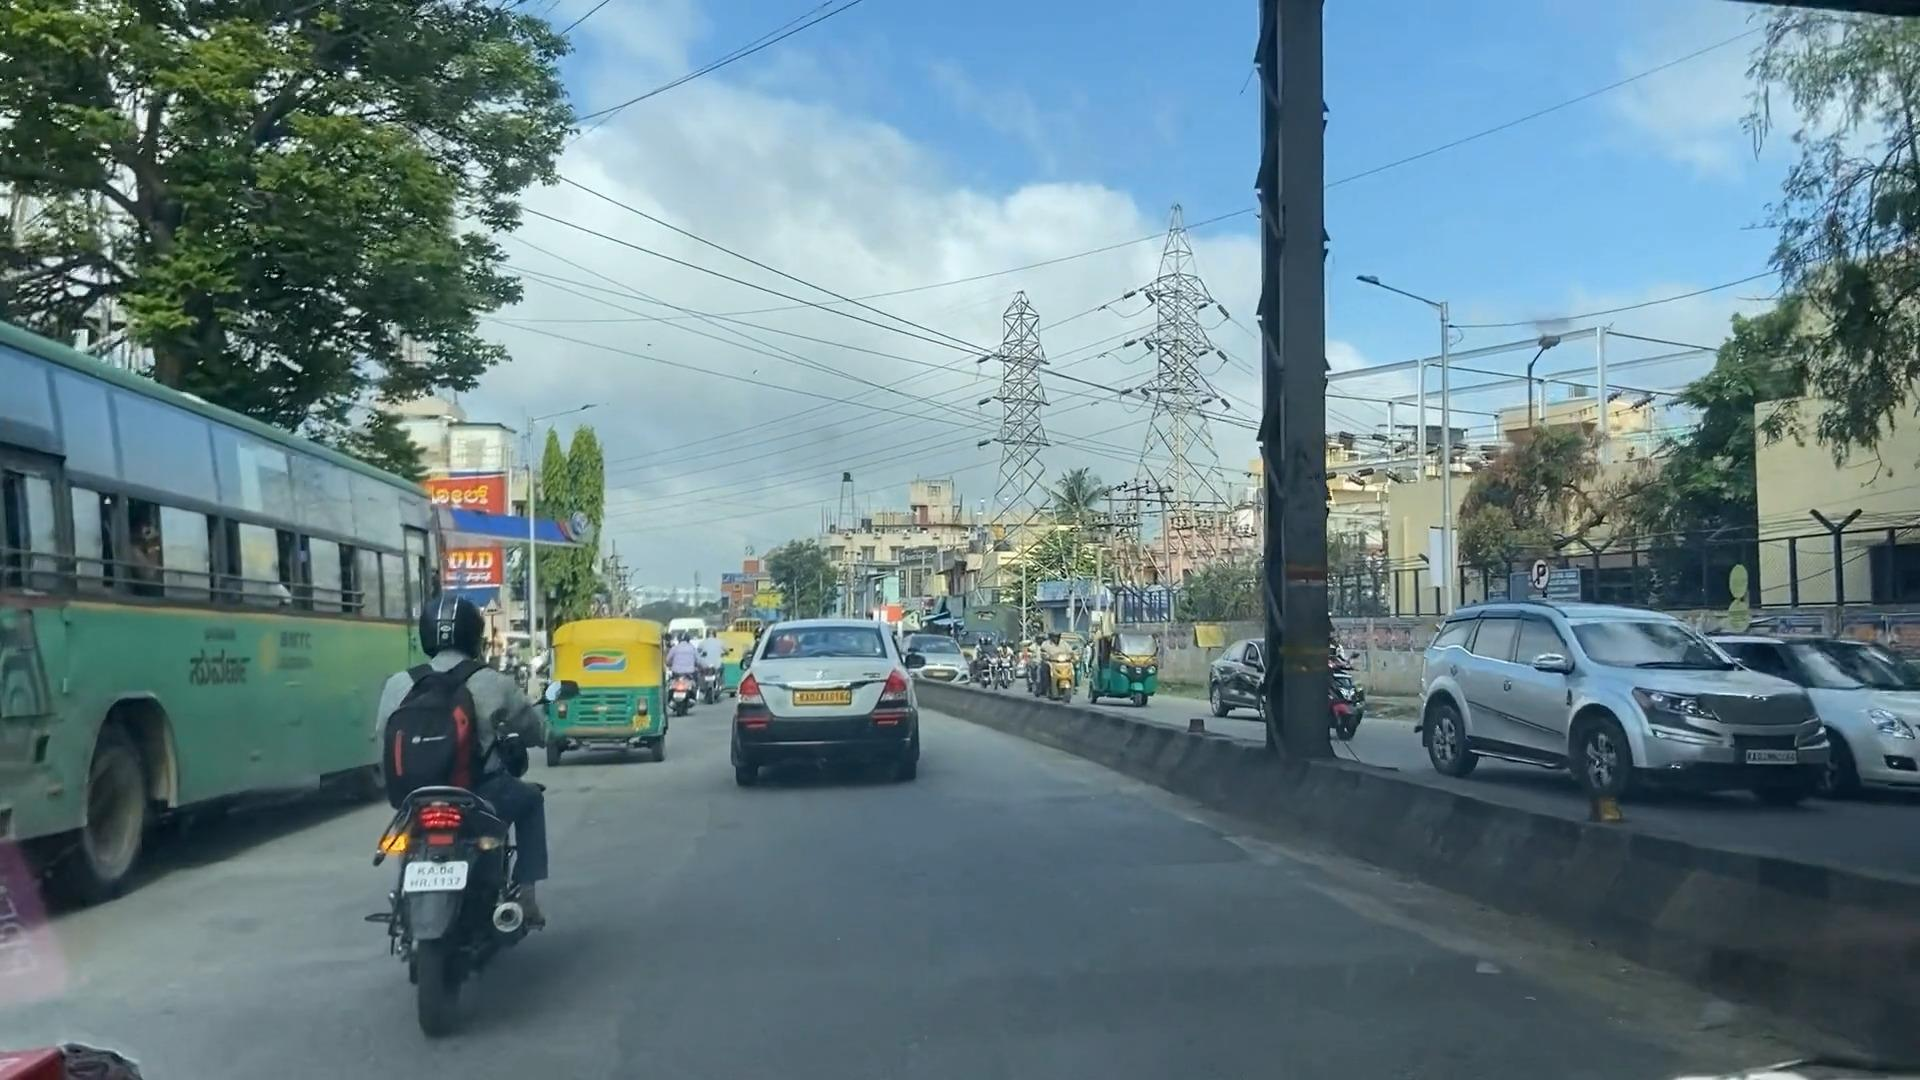LMV: (398, 599, 533, 997), (738, 618, 922, 778), (550, 615, 671, 764)
